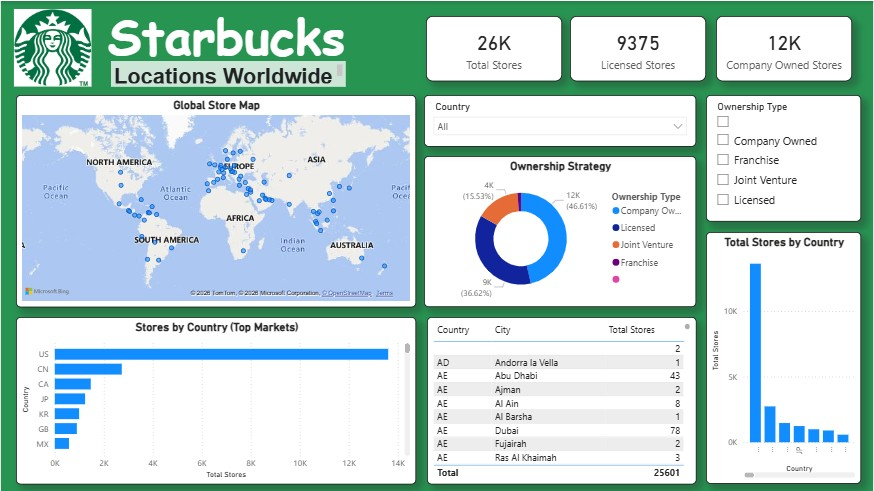

What the dashboard file says about the page in this screenshot:
{"tool":"powerbi","page":{"name":"Page 1","canvas":[1280,720],"ordinal":0},"visuals":[{"type":"card","fields":{"Values":["directory.Total Stores"]},"box":[624,22,200,96],"z":0},{"type":"card","fields":{"Values":["directory.Licensed Stores"]},"box":[836,22,200,96],"z":1000},{"type":"card","fields":{"Values":["directory.Company Owned Stores"]},"box":[1050,22,200,96],"z":2000},{"type":"map","title":"Global Store Map","fields":{"Category":["directory.Country"],"X":["Avg(directory.Longitude)"],"Y":["Avg(directory.Latitude)"]},"box":[22,138,588,312],"z":3000},{"type":"clusteredBarChart","title":"Stores by Country (Top Markets)","fields":{"Category":["directory.Country"],"Y":["directory.Total Stores"]},"box":[22,464,588,246],"z":4000},{"type":"donutChart","title":"Ownership Strategy","fields":{"Category":["directory.Ownership Type"],"Y":["directory.Total Stores"]},"box":[622,228,400,222],"z":5000},{"type":"tableEx","fields":{"Values":["directory.Country","directory.City","directory.Total Stores"]},"box":[626,464,396,246],"z":6000},{"type":"slicer","title":"Add Interactivity","fields":{"Values":["directory.Country"]},"box":[622,138,400,76],"z":7000},{"type":"slicer","title":"Add Interactivity","fields":{"Values":["directory.Ownership Type"]},"box":[1036,138,228,186],"z":8000},{"type":"columnChart","fields":{"Category":["directory.Country"],"Y":["directory.Total Stores"]},"box":[1036,340,228,370],"z":8001},{"type":"image","box":[0,12,152,114],"z":8002},{"type":"textbox","box":[152,0,406,104],"z":8003},{"type":"textbox","box":[161.6,88.2,345.3,38.2],"z":8004}]}

Visuals, with their boxes in screenshot pixels (x1, y1, x2, y2), scaled from the page's 1280x720 canvas onto the 874x491 screenshot:
card - directory.Total Stores: {"left": 426, "top": 15, "right": 563, "bottom": 80}
card - directory.Licensed Stores: {"left": 571, "top": 15, "right": 707, "bottom": 80}
card - directory.Company Owned Stores: {"left": 717, "top": 15, "right": 854, "bottom": 80}
"Global Store Map" map: {"left": 15, "top": 94, "right": 417, "bottom": 307}
"Stores by Country (Top Markets)" clusteredBarChart: {"left": 15, "top": 316, "right": 417, "bottom": 484}
"Ownership Strategy" donutChart: {"left": 425, "top": 155, "right": 698, "bottom": 307}
tableEx - directory.Country x directory.City: {"left": 427, "top": 316, "right": 698, "bottom": 484}
"Add Interactivity" slicer: {"left": 425, "top": 94, "right": 698, "bottom": 146}
"Add Interactivity" slicer: {"left": 707, "top": 94, "right": 863, "bottom": 221}
columnChart - directory.Country x directory.Total Stores: {"left": 707, "top": 232, "right": 863, "bottom": 484}
image: {"left": 0, "top": 8, "right": 104, "bottom": 86}
textbox: {"left": 104, "top": 0, "right": 381, "bottom": 71}
textbox: {"left": 110, "top": 60, "right": 346, "bottom": 86}
